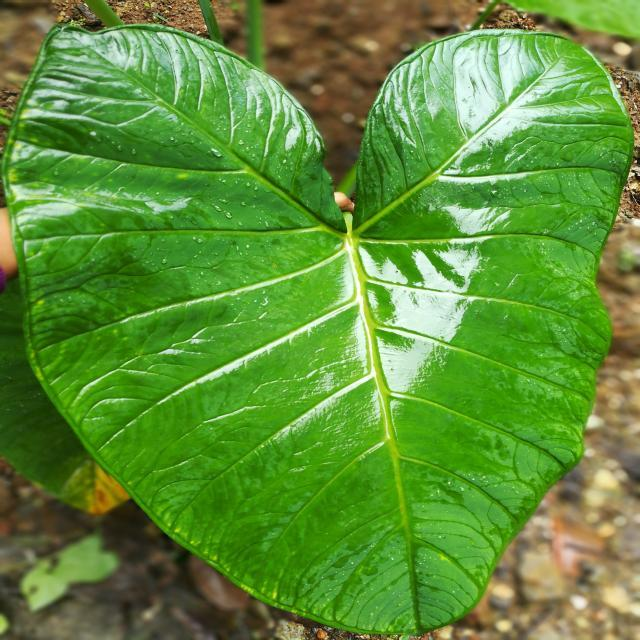leaf: (1, 20, 634, 636)
